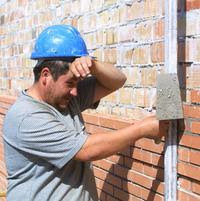casco: (29, 24, 98, 60)
